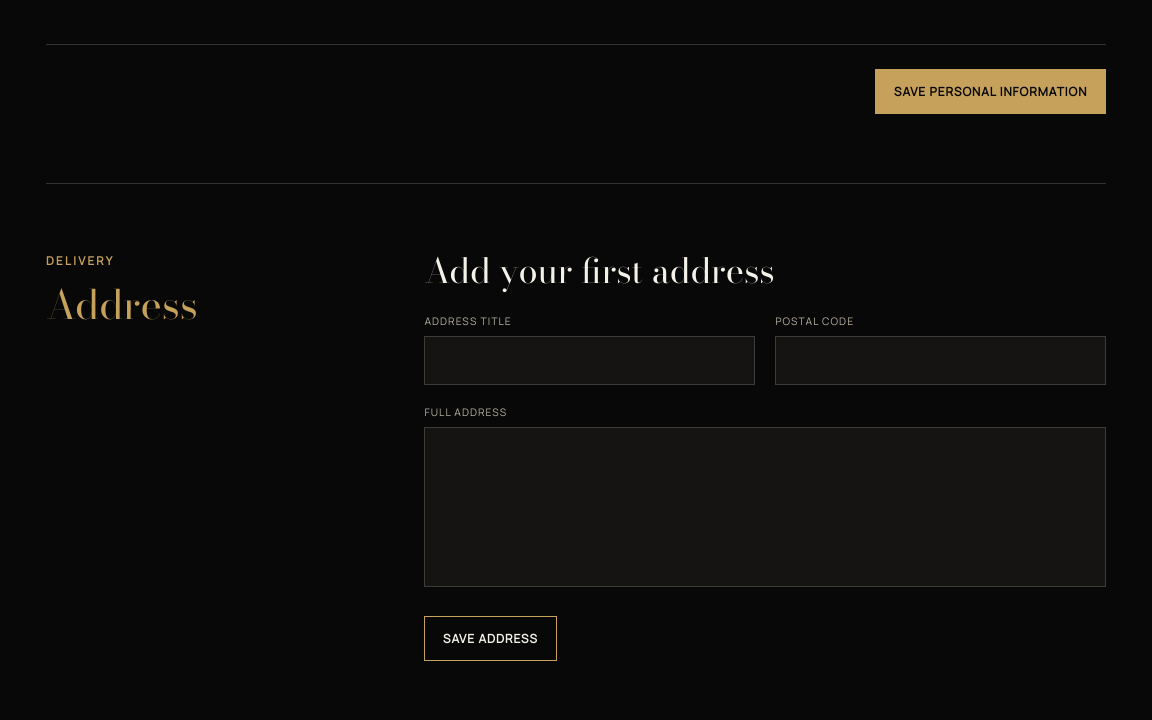
Scenario: creates the first address without an ID
(page scrolled)
Expected: the heading "Add your first address" is shown, [424,244,775,297]
Type "Office" into the field labelled "Address title" at (590, 360), box [424,336,755,385]
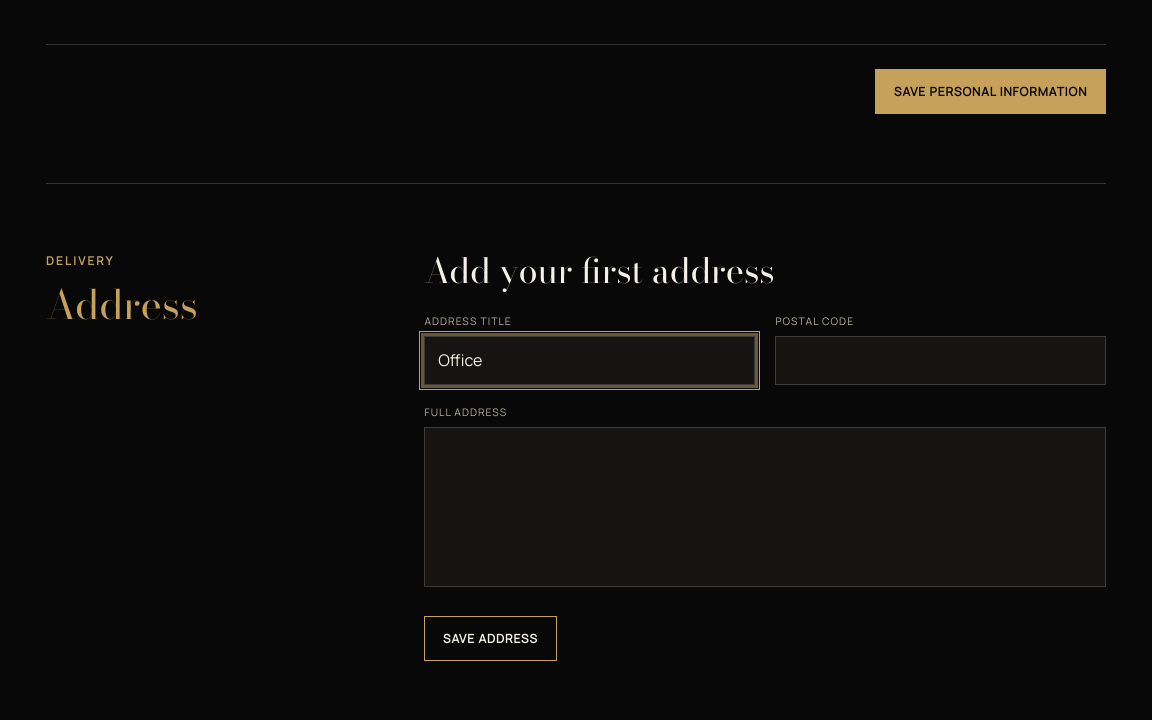
Type "88 Cedar Avenue" into the text box labelled "Full address" at (765, 507), box [424,427,1106,587]
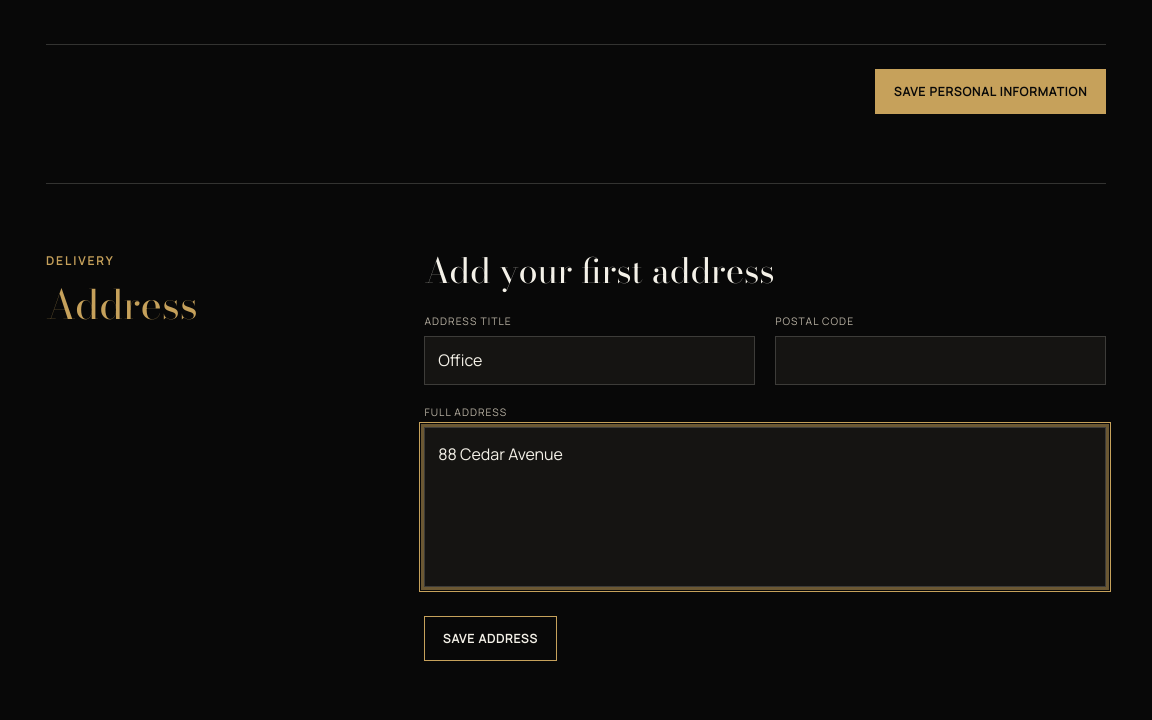
Click the button "Save address" at (490, 638), box [424,616,556,661]
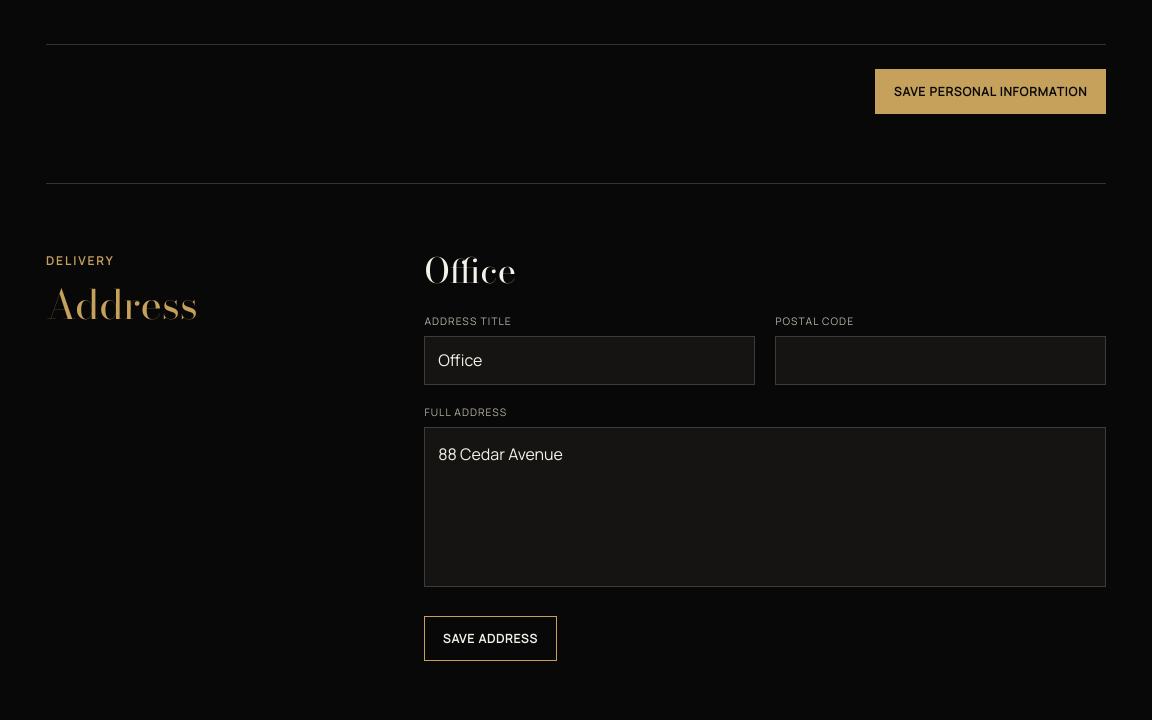
Now the heading "Office" is shown, box [424,244,516,297]
